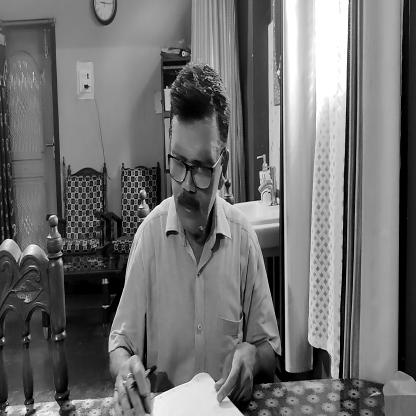Normal: (163, 61, 226, 236)
